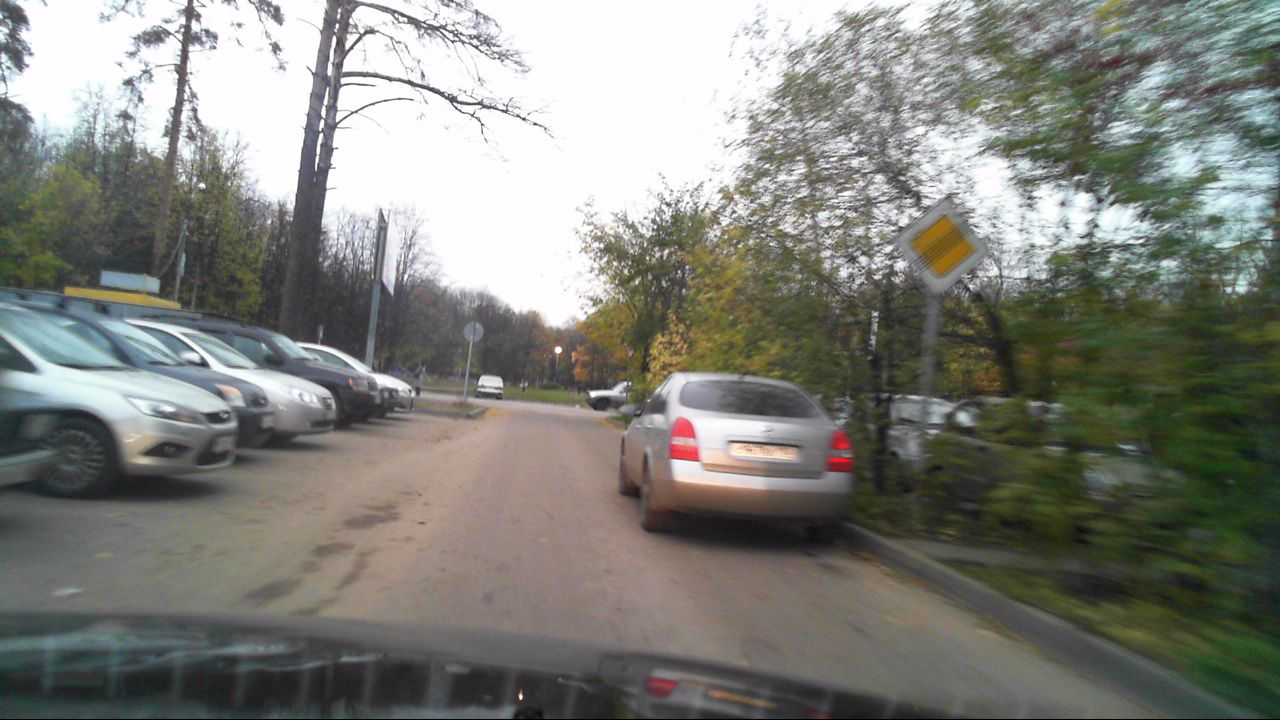main road: (898, 197, 984, 292)
